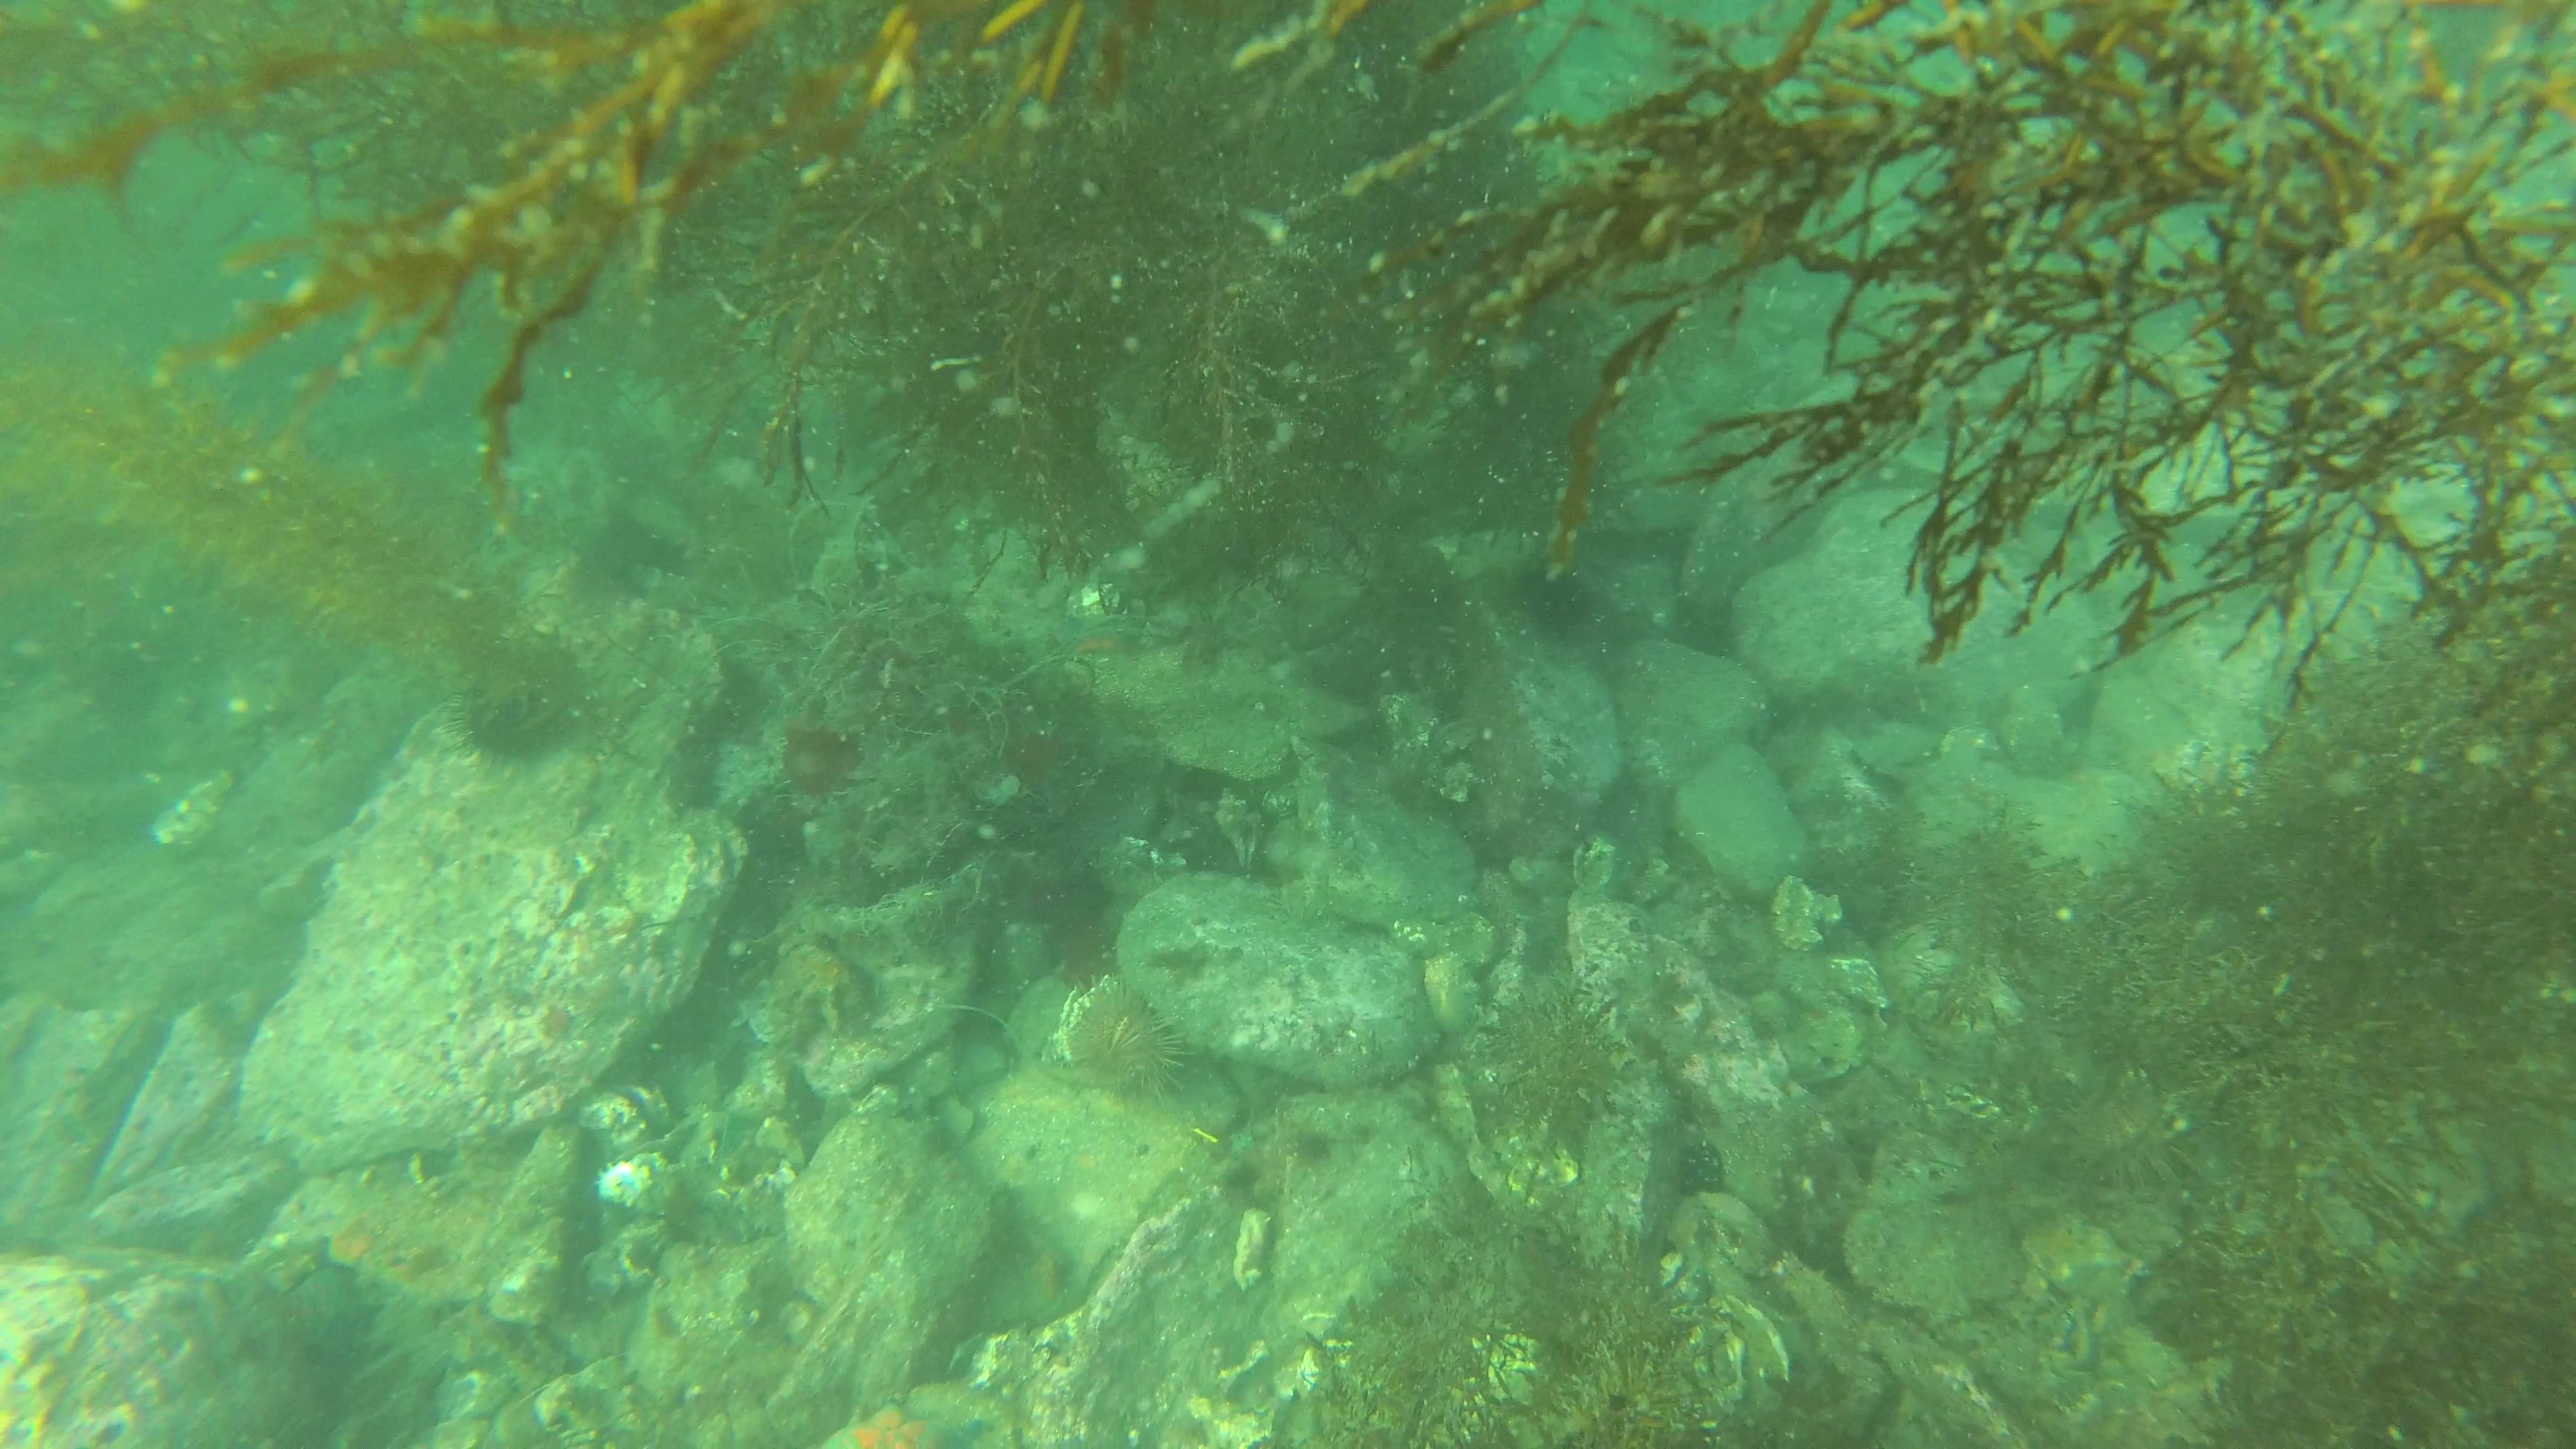echinus: (1054, 977, 1191, 1104)
starfish: (809, 1382, 998, 1449), (1058, 605, 1159, 672)
